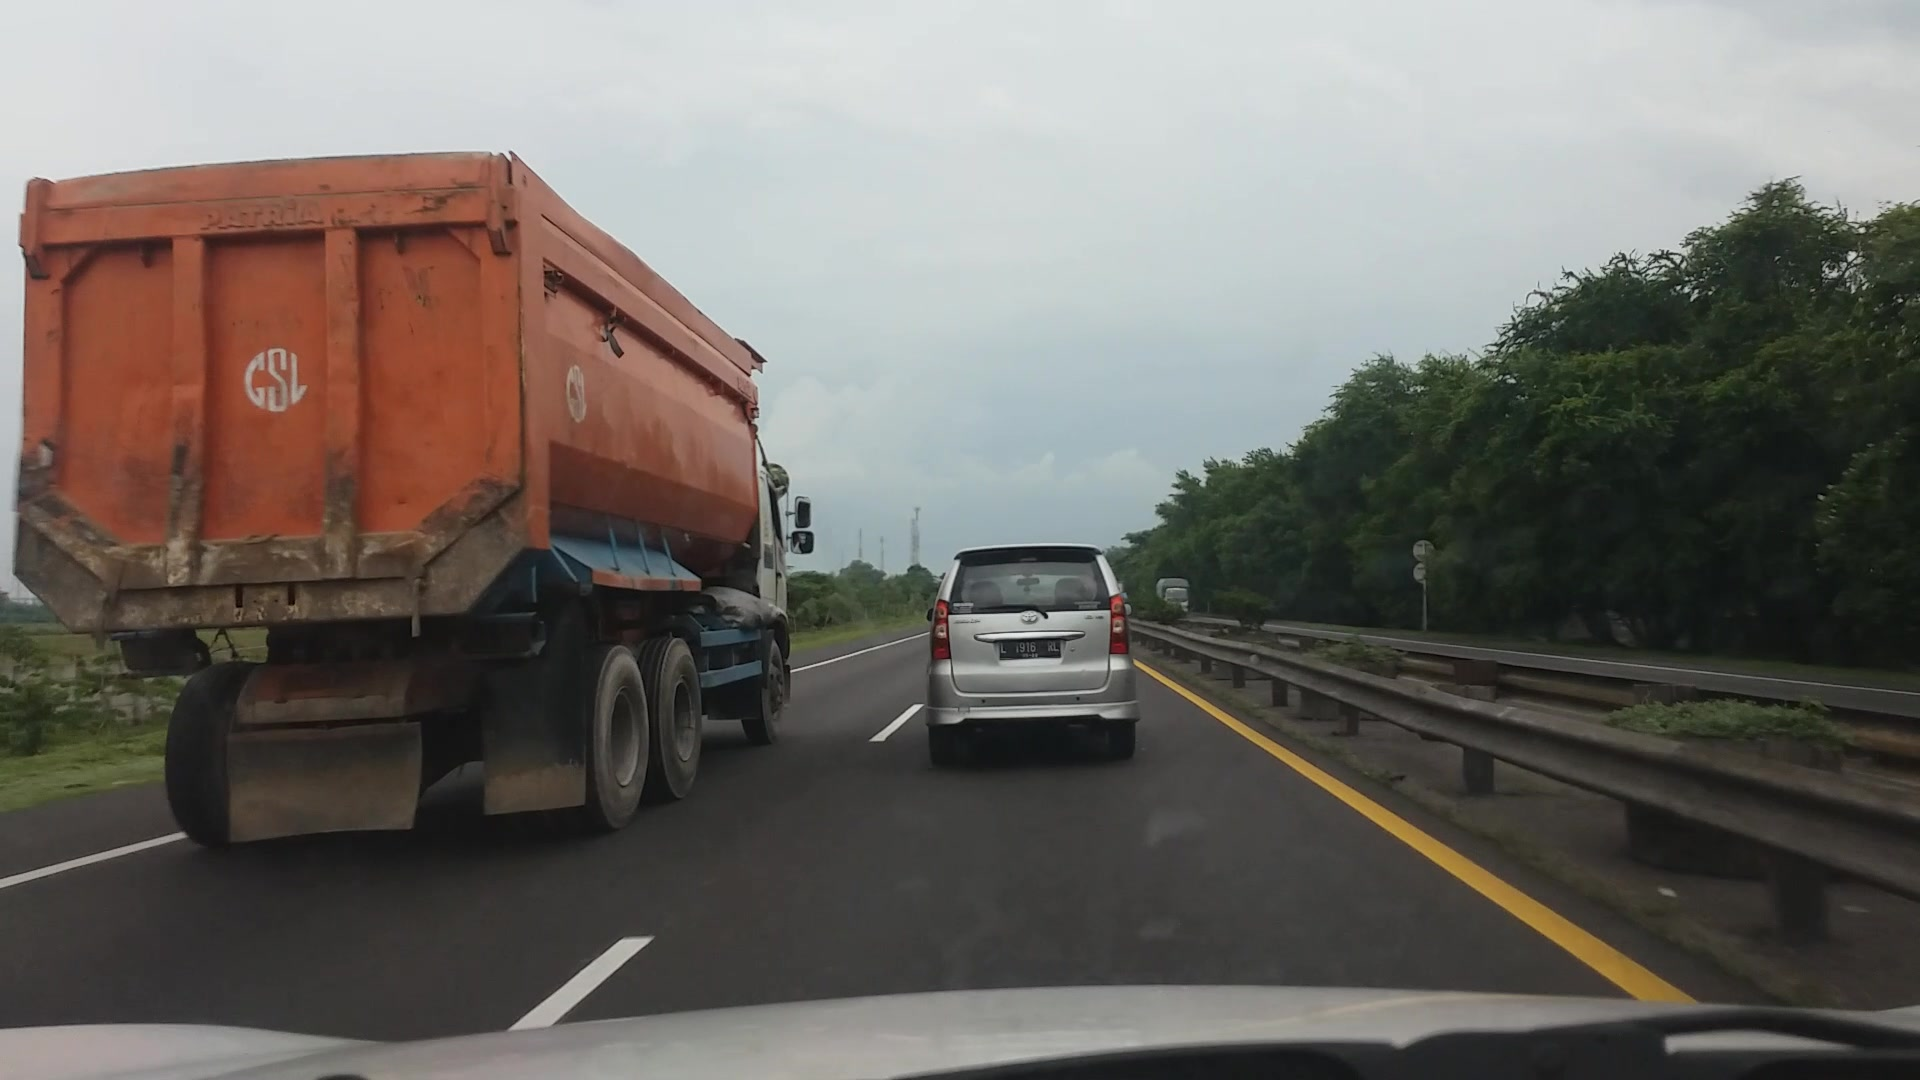plate_positive: (998, 640, 1060, 659)
